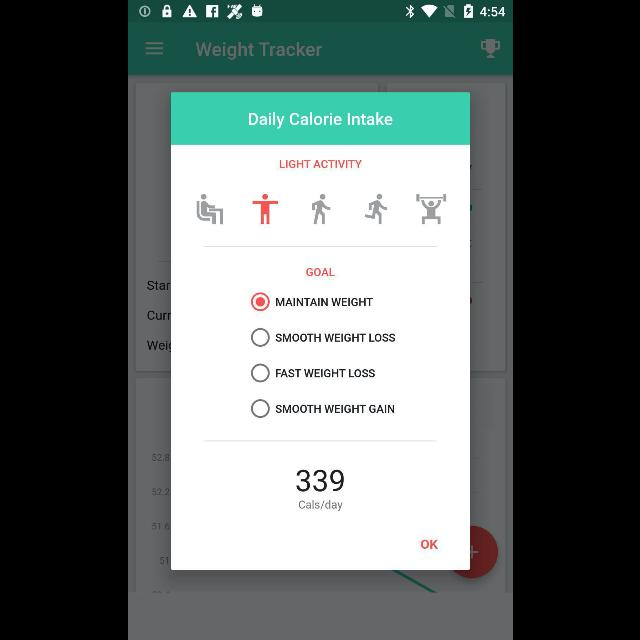checkbox: (250, 398, 270, 418), (251, 292, 269, 312), (250, 328, 268, 347), (251, 364, 269, 382)
icon: (480, 40, 500, 59), (144, 42, 162, 56)
image: (416, 193, 446, 224), (195, 193, 222, 224), (251, 193, 277, 224), (364, 193, 386, 224), (312, 193, 331, 224)
panel: (170, 92, 470, 570)
text: (248, 112, 392, 130), (195, 41, 321, 60), (295, 470, 343, 492), (275, 334, 395, 342), (274, 405, 394, 413), (276, 369, 374, 377), (276, 298, 372, 306), (278, 160, 362, 168), (298, 500, 342, 510), (306, 268, 334, 276), (420, 539, 438, 549)
uppertaskbar: (128, 1, 512, 23)
